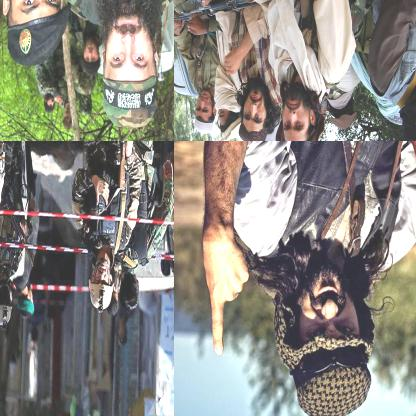rifle: (3, 180, 37, 268), (174, 0, 266, 17), (114, 141, 140, 193), (174, 0, 197, 26)
